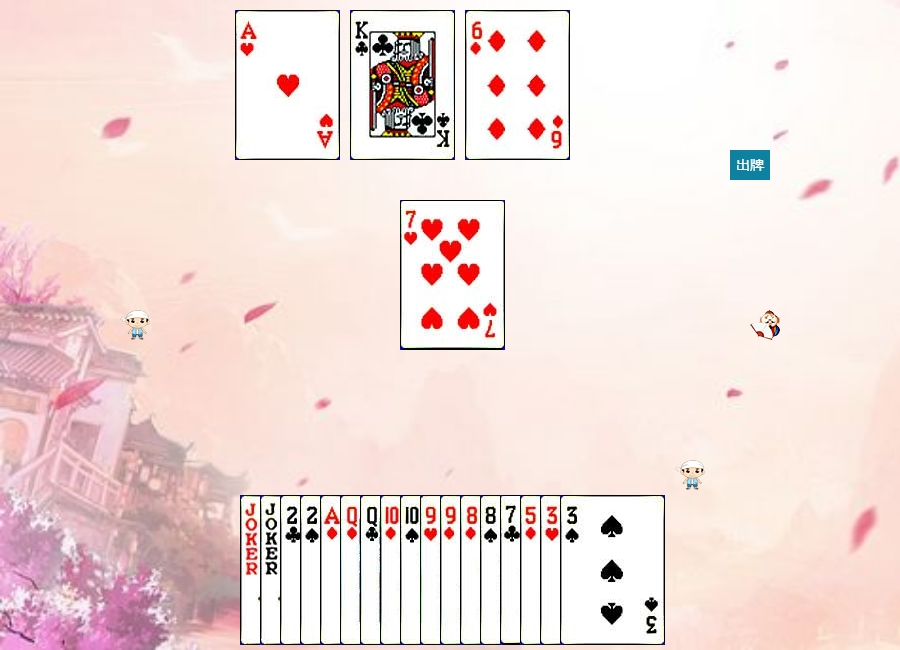10~1: (380, 495, 485, 645)
10~4: (400, 495, 505, 645)
12~1: (340, 495, 445, 645)
12~2: (360, 495, 465, 645)
13~2: (350, 10, 455, 160)
14~1: (320, 495, 425, 645)
14~3: (235, 10, 340, 160)
15~2: (280, 495, 385, 645)
15~4: (300, 495, 405, 645)
17~3: (260, 495, 365, 645)
18~4: (240, 495, 345, 645)
3~3: (540, 495, 645, 645)
3~4: (560, 495, 665, 645)
5~1: (520, 495, 625, 645)
6~1: (465, 10, 570, 160)
7~2: (500, 495, 605, 645)
7~3: (400, 200, 505, 350)
8~1: (460, 495, 565, 645)
8~4: (480, 495, 585, 645)
9~1: (440, 495, 545, 645)
9~3: (420, 495, 525, 645)
